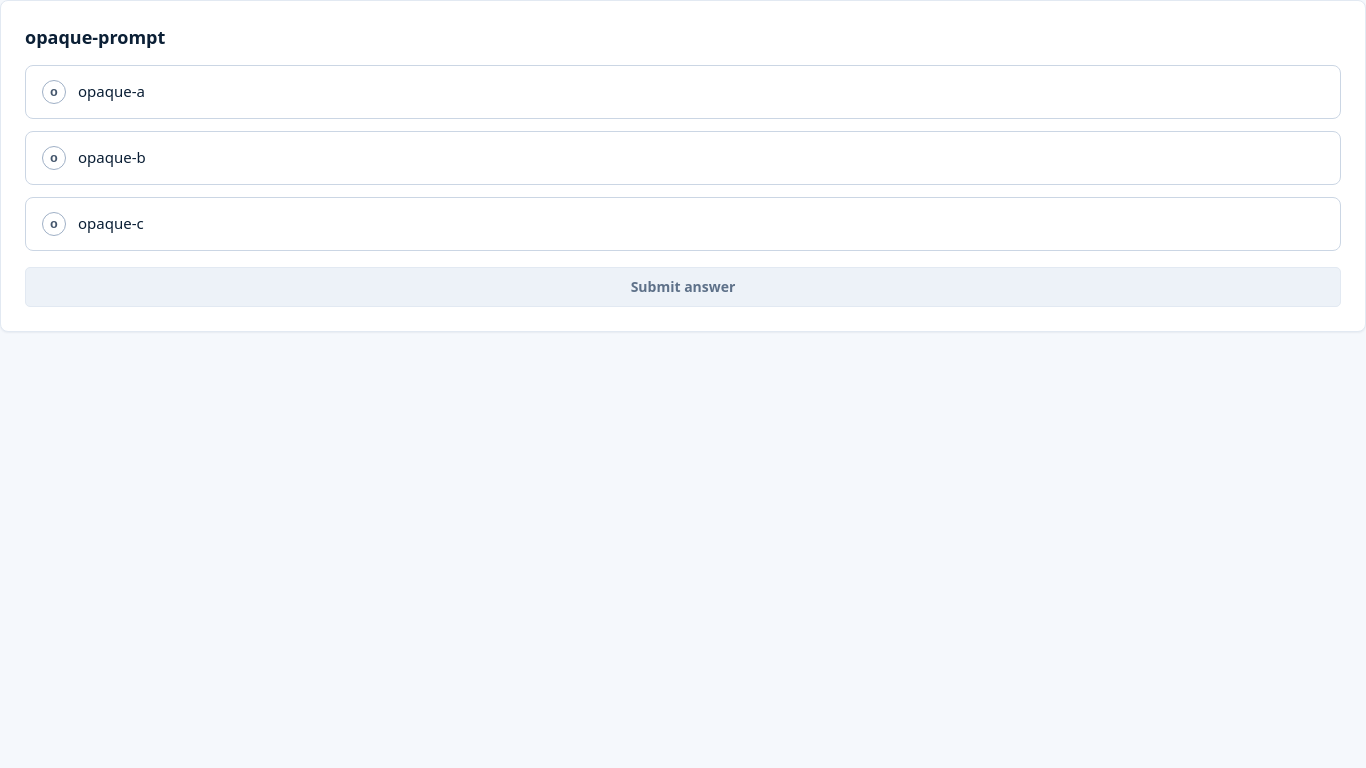
it: QuestionList — read-only result semantics › switches to a read-only list, disables options, and stops presenting them as a radiogroup
The width and height of the screenshot is (1366, 768).
Click the radio button labelled "o opaque-b" at (112, 157), box [25,131,1341,185]
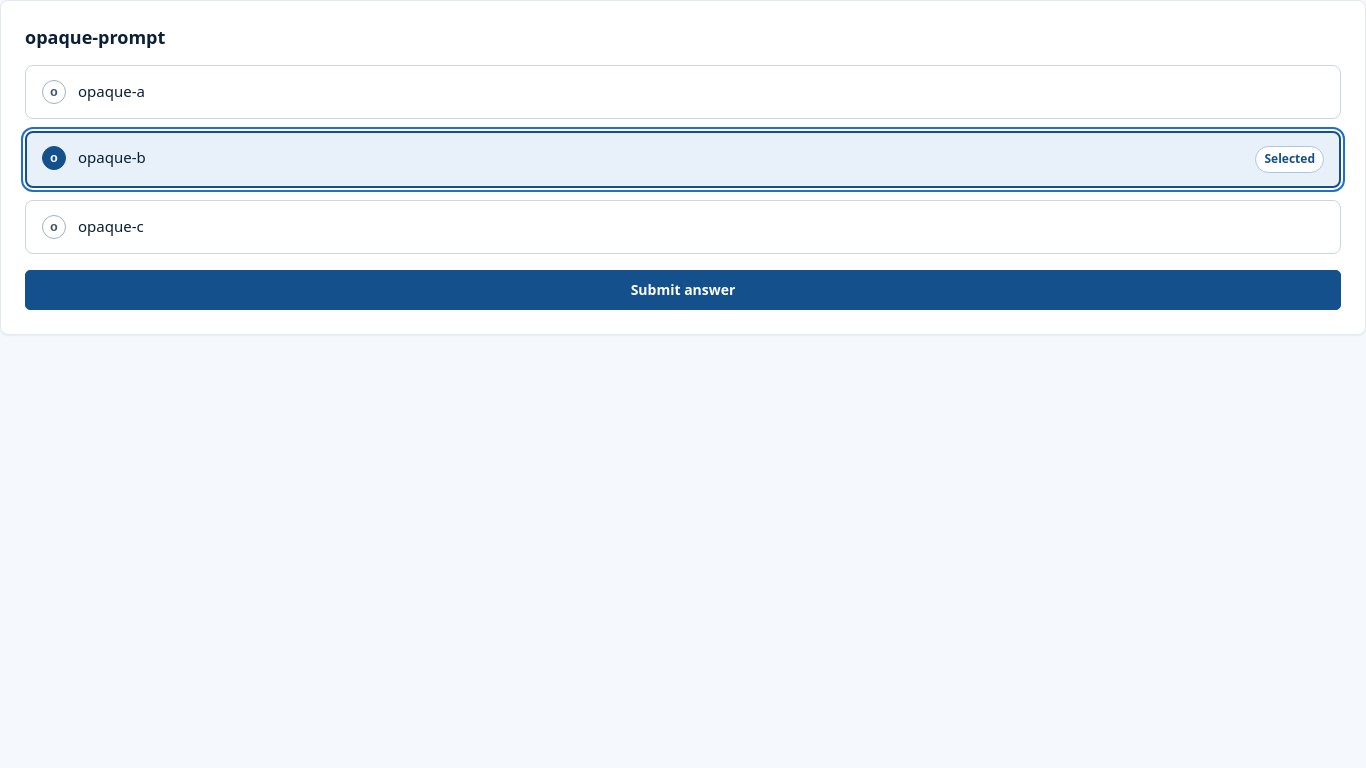
Click the button "Submit answer" at (683, 290), box [25,270,1341,310]
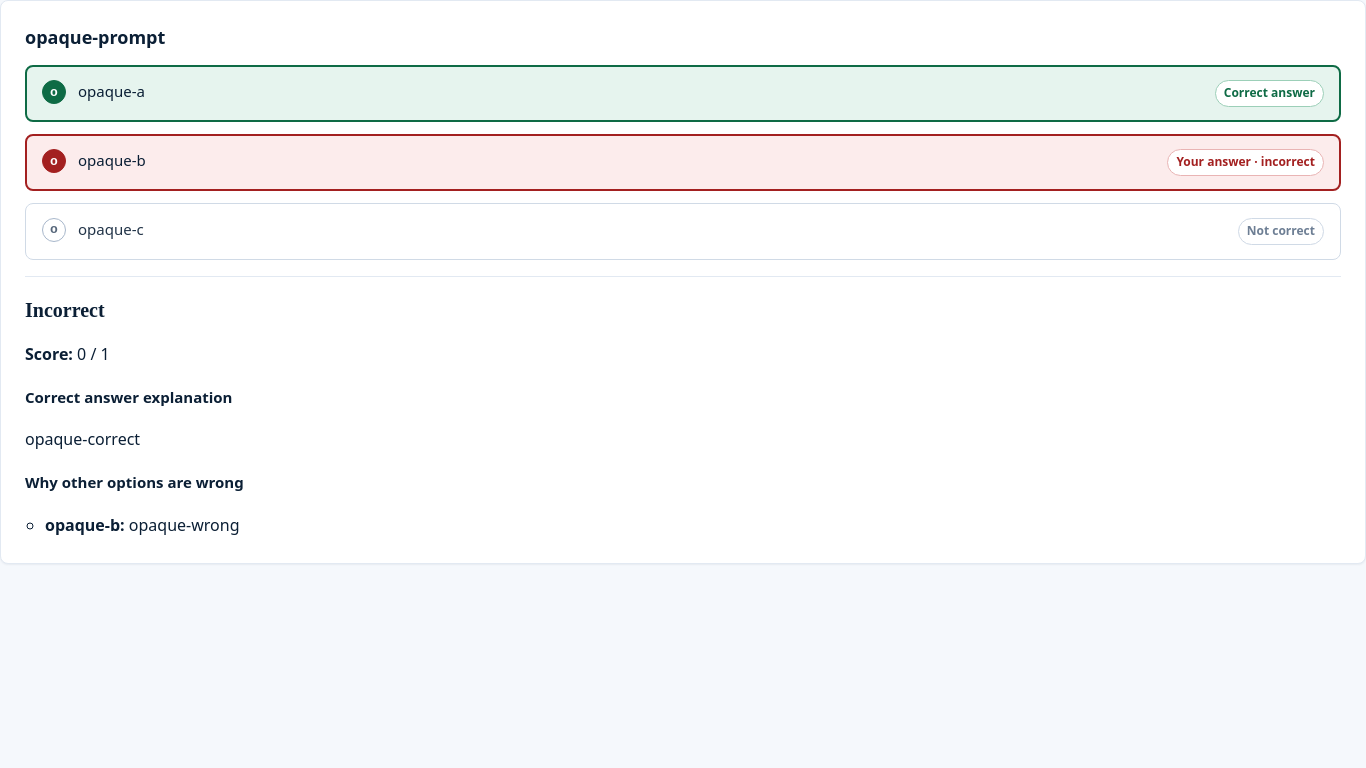
Now the element named "answer feedback" is shown, box [25,276,1341,539]
Now the list item "o opaque-a Correct answer" is disabled, box [25,65,1341,122]
Now the list item "o opaque-b Your answer · incorrect" is disabled, box [25,134,1341,191]
